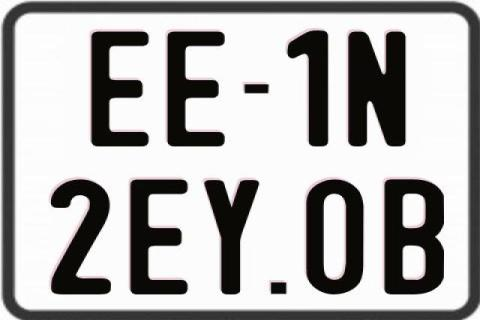0: (51, 178, 113, 298), (303, 178, 363, 294), (285, 30, 326, 146)
B: (382, 178, 446, 294)
E: (164, 29, 228, 149), (91, 30, 152, 148), (128, 178, 190, 294)
N: (347, 31, 405, 147)
Y: (202, 180, 261, 294)
